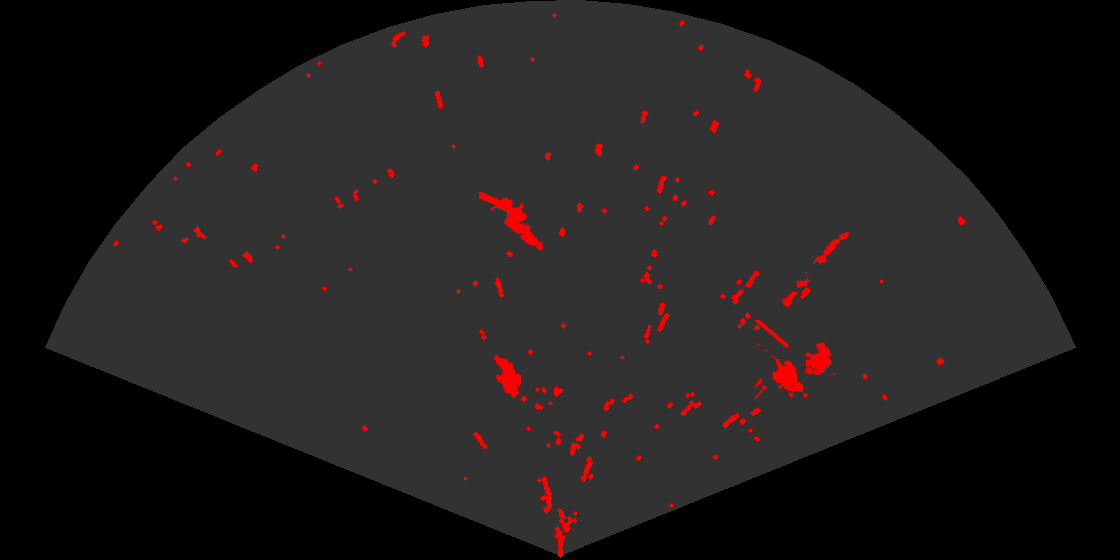AUV: (492, 353, 523, 399)
cage: (755, 320, 837, 401)
chain: (781, 230, 851, 309)
frogman: (479, 190, 545, 252)
